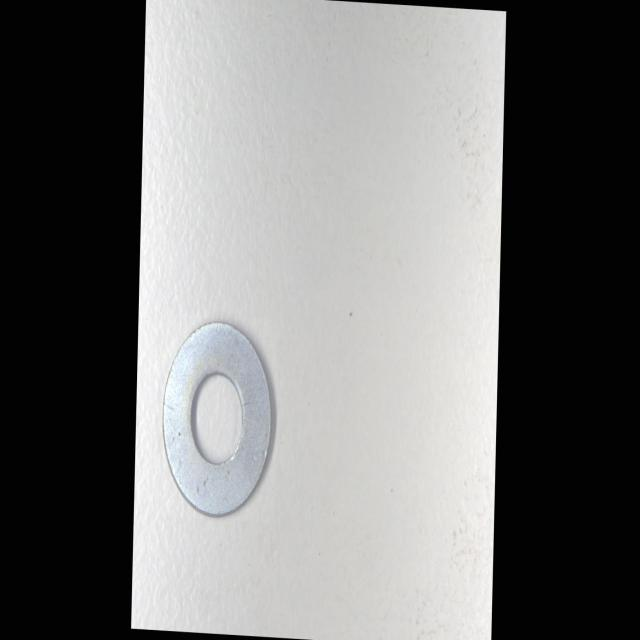washer: (163, 315, 278, 519)
